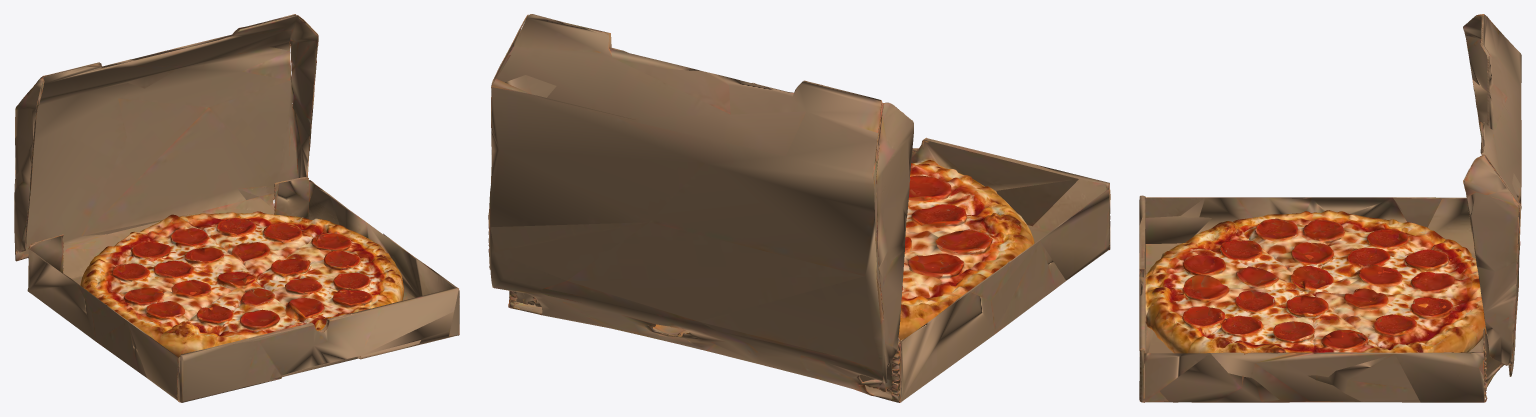
File: pizza.glb
3 views of the same model, side by side, from view 1: azimuth 30°, elevation 25°; view 2: azimuth 150°, elevation 25°; view 3: azimuth 270°, elevation 25° (orthographic). The views are drawn at different scales.
Parts seen in each view (by area): view 1: Mesh_0; view 2: Mesh_0; view 3: Mesh_0.
Part boxes in pixels (box(x1,y1,x2,y2)): Mesh_0: box(14, 14, 459, 402); Mesh_0: box(488, 14, 1110, 402); Mesh_0: box(1139, 14, 1521, 402).
Size of the model in its own units: 0.0556 by 0.04 by 0.0571.
Materials: 1 (1 with a texture image).
